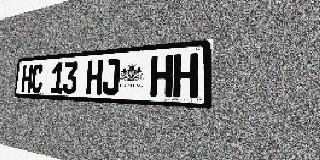1: (50, 62, 64, 94)
3: (63, 61, 78, 94)
C: (31, 64, 44, 93)
H: (173, 53, 198, 98), (150, 55, 173, 97), (86, 60, 103, 95), (21, 65, 33, 93)
J: (102, 58, 120, 95)
